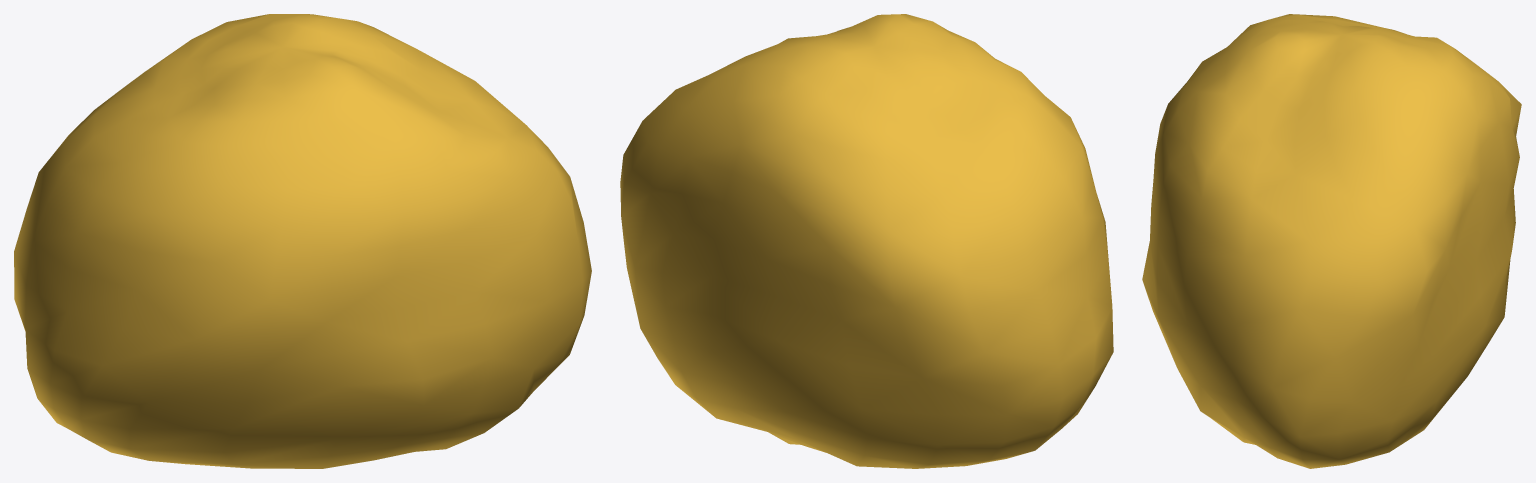
File: Gold.fbx
3 views of the same model, side by side, from view 1: azimuth 30°, elevation 25°; view 2: azimuth 150°, elevation 25°; view 3: azimuth 270°, elevation 25° (orthographic). The views are drawn at different scales.
Parts seen in each view (by area): view 1: Gold; view 2: Gold; view 3: Gold.
Part boxes in pixels (bbox=[...]): Gold: bbox=[14, 14, 591, 468]; Gold: bbox=[620, 14, 1113, 468]; Gold: bbox=[1142, 14, 1521, 468].
Size of the model in its own units: 8.37 by 6.46 by 6.12.
1 material, 1 textured.
